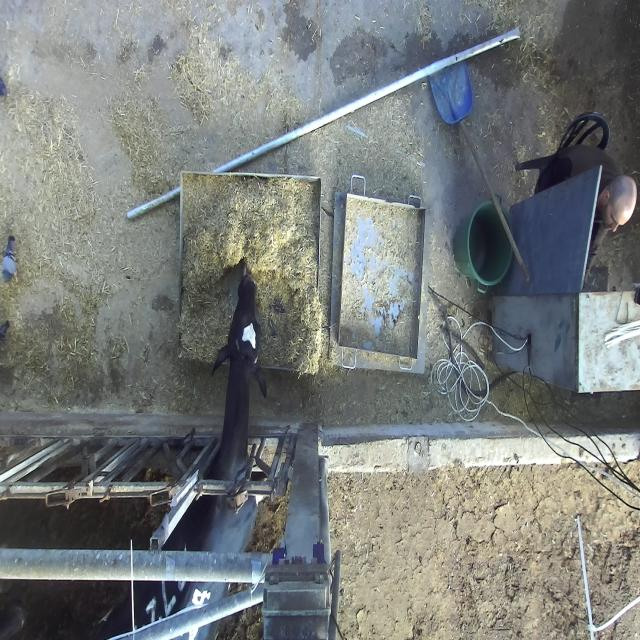cow: (211, 281, 267, 400)
